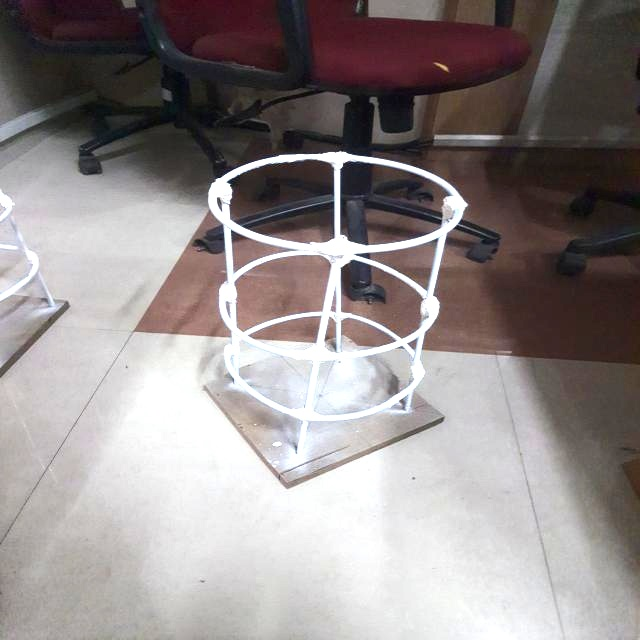silo: (191, 151, 443, 482), (0, 166, 67, 394)
